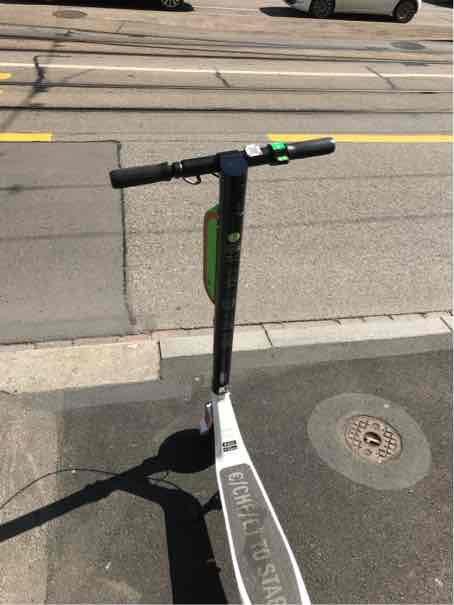scooter: (105, 134, 346, 605)
